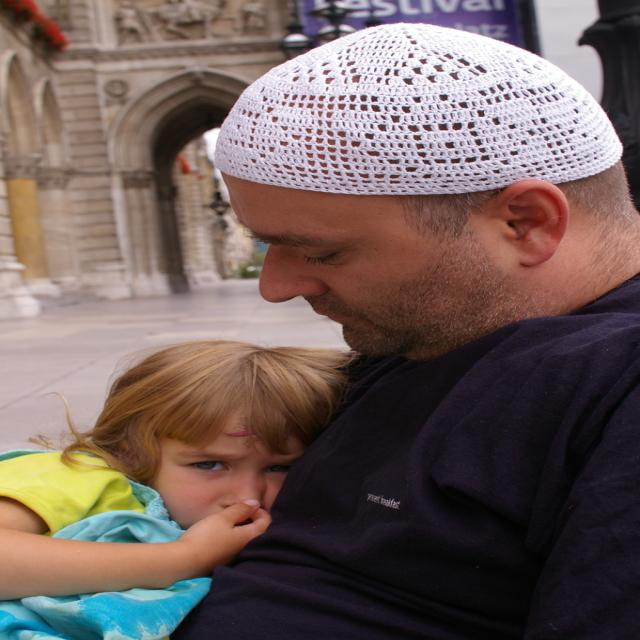Hat: (214, 23, 629, 196)
